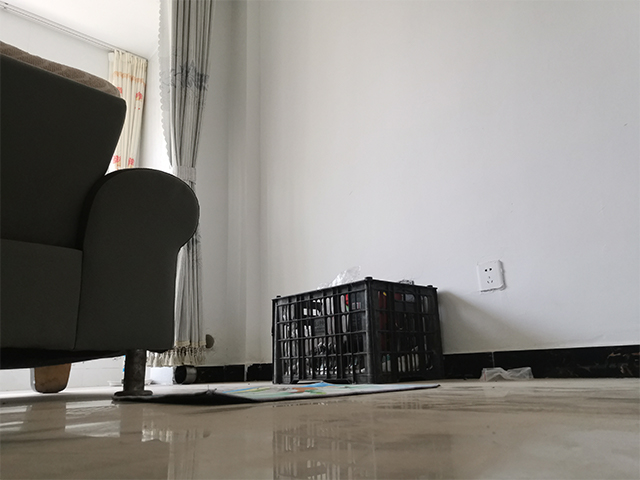carpet: (109, 379, 443, 406)
curtain: (144, 1, 216, 369)
sofa: (1, 39, 201, 398)
